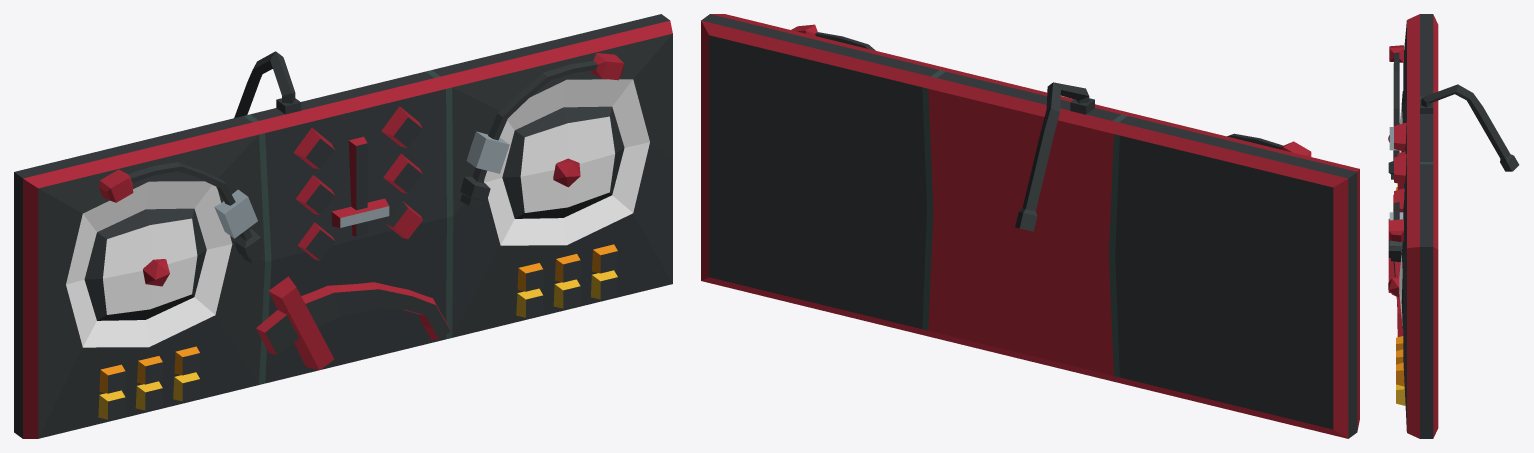
Rendered from LD51DJenemy.fbx.
3 views of the same model, side by side, from view 1: azimuth 30°, elevation 25°; view 2: azimuth 150°, elevation 25°; view 3: azimuth 270°, elevation 25° (orthographic). The views are drawn at different scales.
Visible parts, largest first — view 1: Enemy_DJtable; view 2: Enemy_DJtable; view 3: Enemy_DJtable.
Part boxes in pixels (left/top/right/bottom): Enemy_DJtable: left=14, top=14, right=672, bottom=438; Enemy_DJtable: left=701, top=14, right=1359, bottom=438; Enemy_DJtable: left=1388, top=14, right=1519, bottom=438.
Size of the model in its own units: 520 by 124 by 231.
